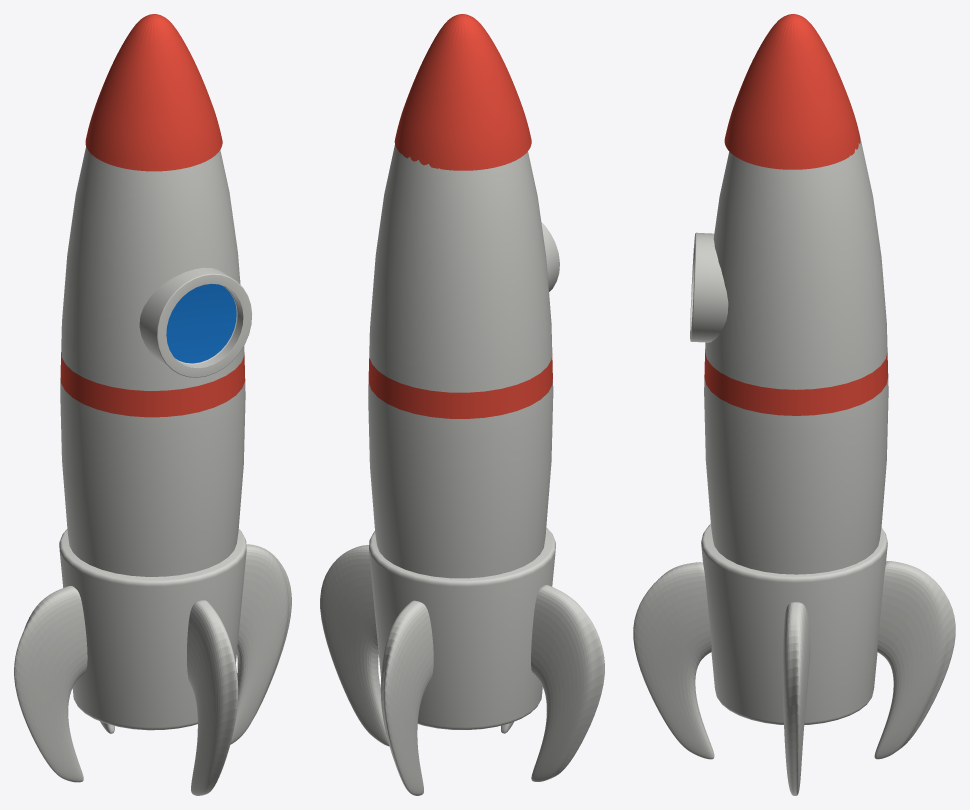
The model's file is rocket.glb.
3 renders of one model, left to right at view 1: azimuth 30°, elevation 25°; view 2: azimuth 150°, elevation 25°; view 3: azimuth 270°, elevation 25°, orthographic.
Visible parts, largest first — view 1: rocket_body_0, rocket_nazell_3, rocket_head_1, rocket_beez2_4, rocket_window_2, rocket_beez1_5, rocket_beez3_6; view 2: rocket_body_0, rocket_nazell_3, rocket_head_1, rocket_beez2_4, rocket_beez3_6, rocket_beez4_7, rocket_window_2; view 3: rocket_body_0, rocket_nazell_3, rocket_head_1, rocket_beez1_5, rocket_beez4_7, rocket_beez3_6, rocket_window_2.
Boxes of the visible parts, bbox=[...] form: rocket_body_0: bbox=[60, 146, 245, 576]; rocket_nazell_3: bbox=[59, 529, 246, 730]; rocket_head_1: bbox=[85, 14, 222, 171]; rocket_beez2_4: bbox=[14, 586, 87, 782]; rocket_window_2: bbox=[139, 267, 252, 377]; rocket_beez1_5: bbox=[187, 600, 238, 795]; rocket_beez3_6: bbox=[230, 544, 291, 744]; rocket_body_0: bbox=[368, 145, 553, 578]; rocket_nazell_3: bbox=[369, 527, 555, 729]; rocket_head_1: bbox=[394, 14, 531, 170]; rocket_beez2_4: bbox=[531, 585, 604, 781]; rocket_beez3_6: bbox=[320, 545, 389, 746]; rocket_beez4_7: bbox=[380, 600, 433, 795]; rocket_window_2: bbox=[541, 222, 559, 291]; rocket_body_0: bbox=[704, 139, 888, 574]; rocket_nazell_3: bbox=[701, 524, 887, 724]; rocket_head_1: bbox=[724, 14, 860, 169]; rocket_beez1_5: bbox=[633, 562, 714, 759]; rocket_beez4_7: bbox=[874, 561, 955, 759]; rocket_beez3_6: bbox=[782, 602, 810, 795]; rocket_window_2: bbox=[690, 232, 728, 342].
Size of the model in its own units: 1.95 by 4.97 by 1.95.
